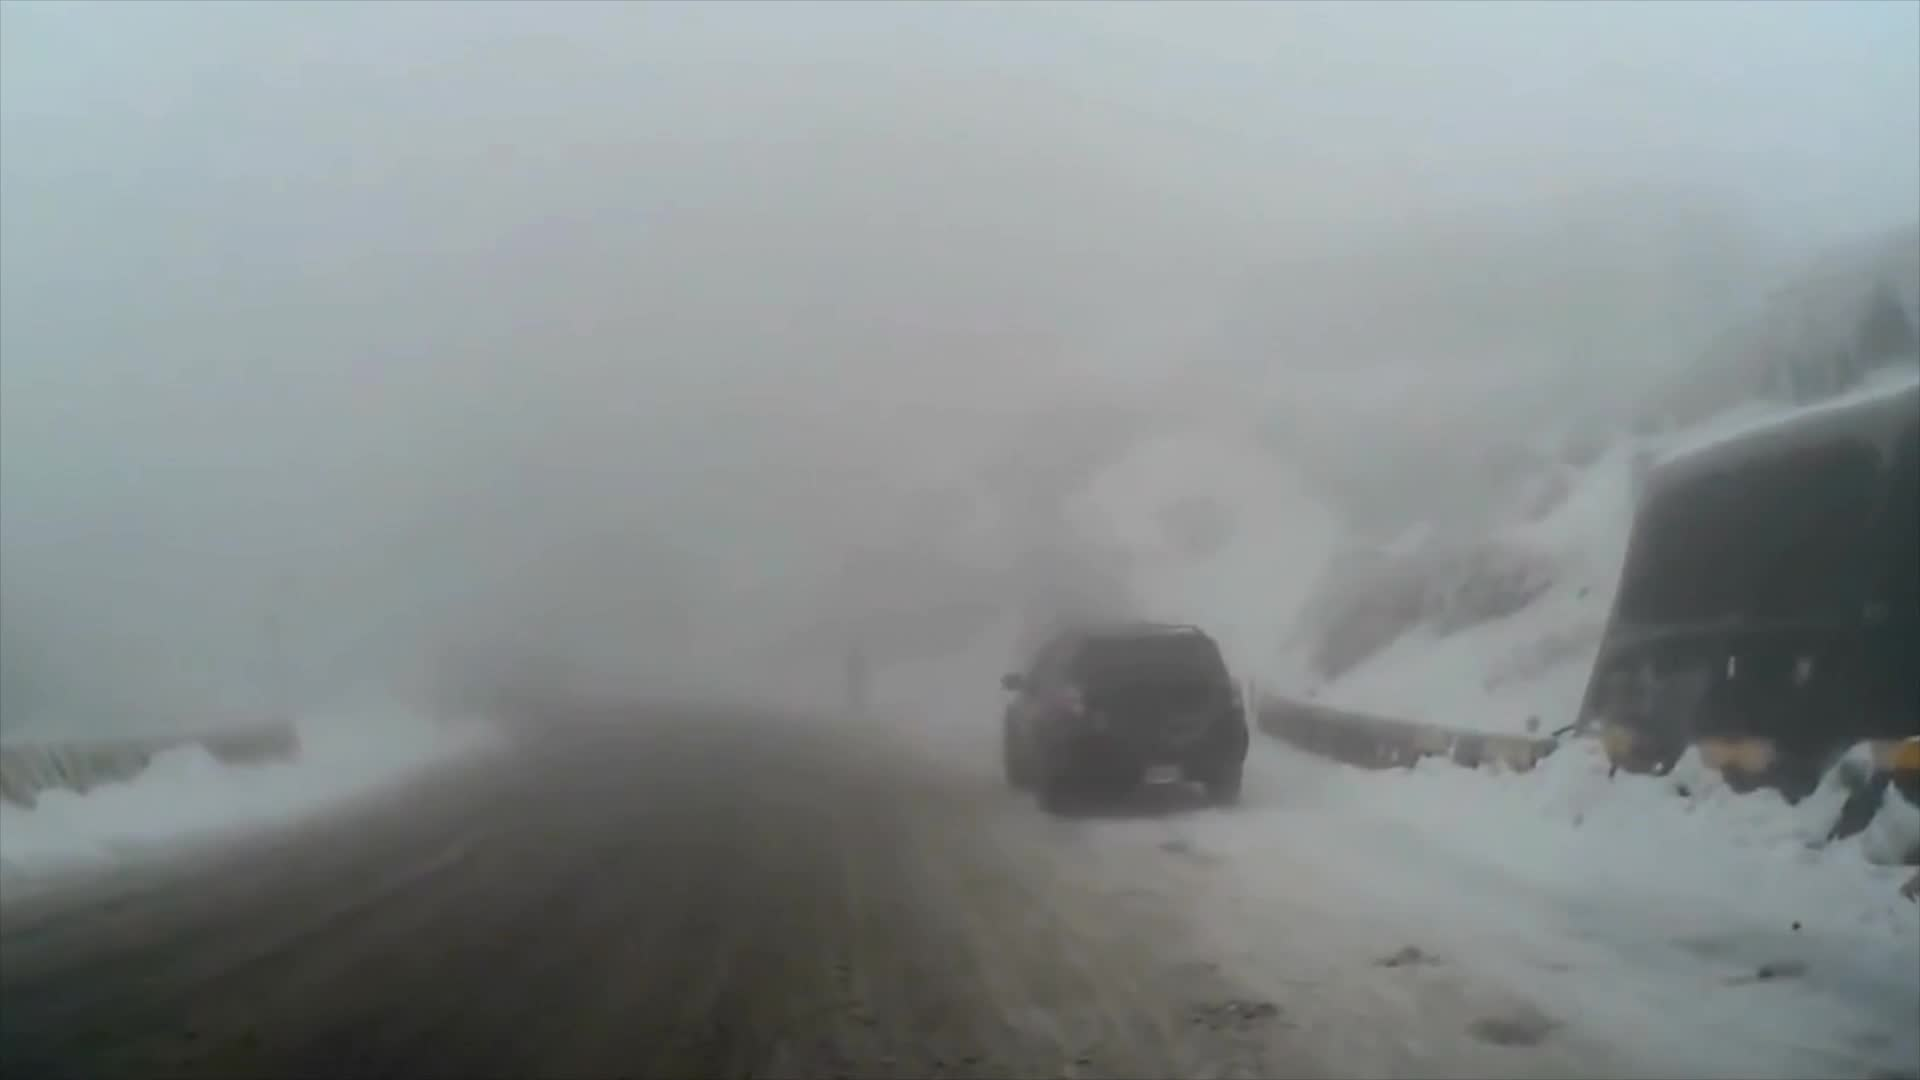vehicle: (996, 618, 1249, 816)
